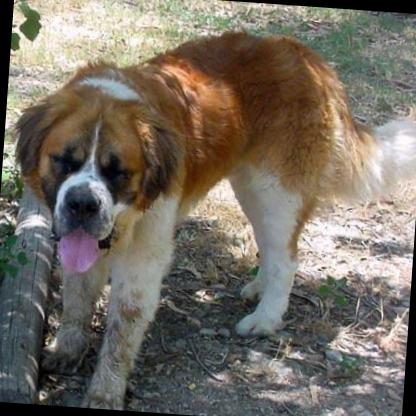Saint_Bernard: (0, 10, 416, 416)
